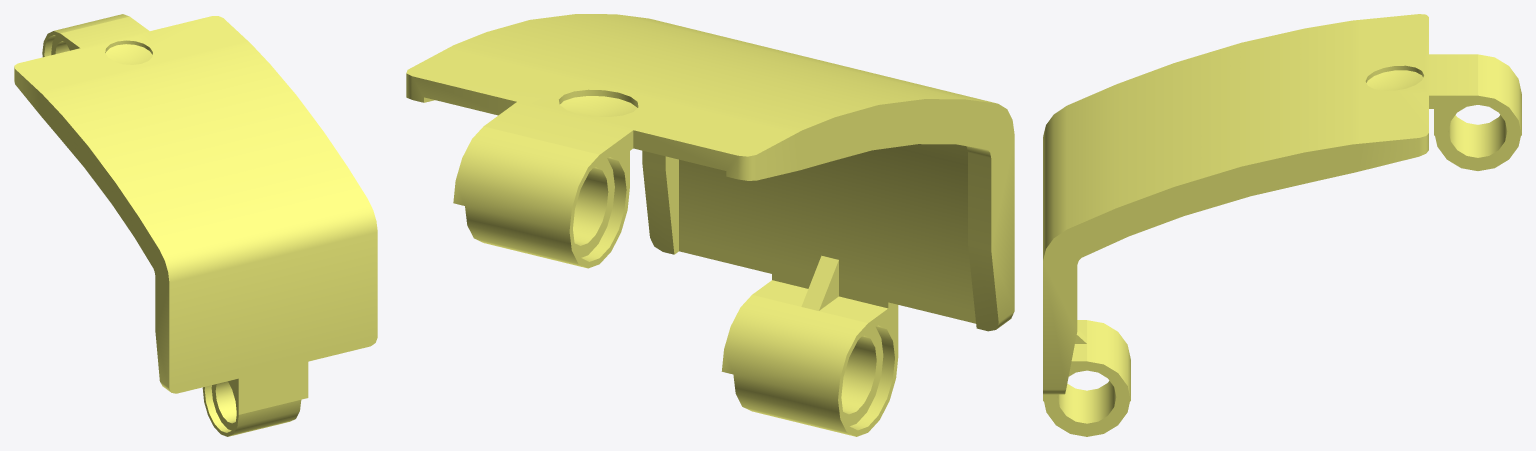
The picture shows the model from 3 angles, left to right: view 1: azimuth 30°, elevation 25°; view 2: azimuth 150°, elevation 25°; view 3: azimuth 270°, elevation 25°; orthographic projection. The views are drawn at different scales.
Visible parts, largest first — view 1: 24116.dat; view 2: 24116.dat; view 3: 24116.dat.
Part boxes in pixels (x1,y1,x2,y2): 24116.dat: (14,14,377,436); 24116.dat: (406,14,1014,436); 24116.dat: (1043,14,1521,436).
Size of the model in its own units: 0.024 by 0.0312 by 0.0392.
